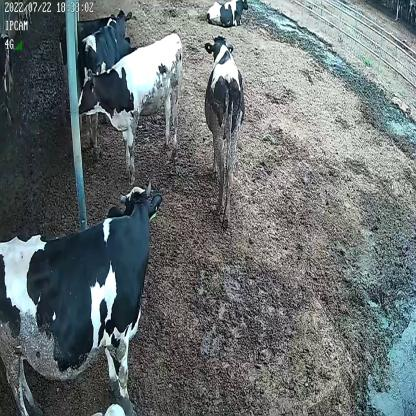cow: (0, 181, 162, 416), (79, 33, 183, 181), (203, 34, 246, 230), (80, 25, 137, 151), (204, 0, 249, 28)
